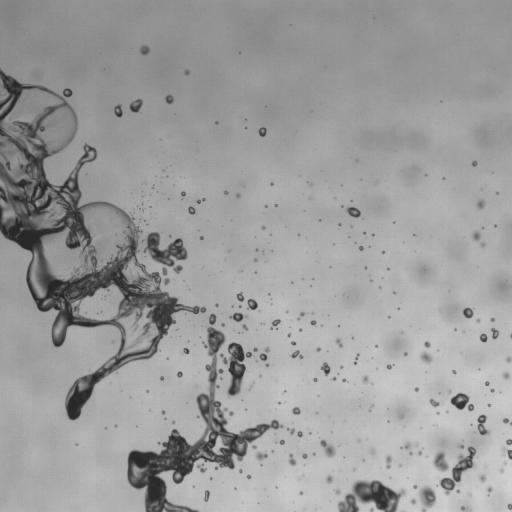droplet: (450, 392, 474, 411), (419, 485, 436, 511), (432, 451, 448, 472), (320, 440, 335, 457), (129, 99, 142, 112), (346, 206, 360, 217), (230, 312, 245, 321), (420, 352, 432, 363), (462, 307, 473, 318), (321, 362, 330, 375), (247, 298, 257, 309), (114, 104, 122, 117), (401, 441, 411, 450), (291, 350, 302, 358), (256, 452, 267, 460), (288, 454, 296, 465), (140, 45, 149, 54), (491, 328, 498, 339), (472, 231, 480, 240), (236, 292, 244, 301), (271, 319, 280, 327), (477, 199, 484, 209), (165, 95, 173, 103), (259, 127, 266, 136), (480, 333, 487, 342), (188, 206, 195, 214), (292, 407, 300, 414), (325, 475, 332, 483), (479, 474, 486, 482), (502, 372, 509, 379), (362, 376, 368, 383), (242, 324, 248, 330), (424, 341, 430, 347), (183, 348, 189, 354), (288, 428, 294, 434), (310, 320, 316, 325), (506, 356, 511, 362), (177, 371, 182, 377), (297, 431, 302, 437), (458, 443, 464, 448), (487, 486, 492, 492), (334, 489, 340, 494), (410, 498, 415, 504), (472, 161, 477, 166), (387, 364, 392, 369), (228, 411, 233, 416), (370, 449, 375, 454), (302, 453, 307, 458), (181, 191, 185, 197), (184, 70, 189, 74), (480, 243, 485, 247), (279, 440, 284, 444), (251, 445, 256, 449), (236, 193, 240, 197), (359, 246, 363, 250), (490, 317, 494, 321), (291, 341, 295, 345), (253, 347, 257, 351), (316, 347, 320, 351), (342, 378, 346, 382), (485, 381, 489, 385), (414, 387, 418, 391), (490, 388, 494, 392), (331, 377, 336, 380), (418, 450, 421, 455), (161, 410, 165, 413), (413, 485, 417, 488), (224, 191, 227, 194), (476, 319, 479, 322), (287, 333, 290, 336), (160, 377, 163, 380), (314, 378, 317, 381), (239, 469, 242, 472), (500, 469, 503, 472), (247, 475, 250, 478), (271, 182, 273, 185), (262, 226, 264, 229), (382, 250, 384, 253), (215, 304, 218, 306), (222, 323, 224, 326), (299, 328, 301, 331), (266, 363, 268, 366), (453, 370, 455, 373), (146, 390, 149, 392), (399, 416, 402, 418), (409, 452, 412, 454), (300, 491, 302, 494), (254, 258, 256, 260), (375, 344, 377, 346), (405, 353, 407, 355), (340, 366, 342, 368), (283, 391, 285, 393), (446, 410, 448, 412), (172, 422, 174, 424), (414, 443, 416, 445)
ligament: (0, 68, 206, 420), (127, 314, 282, 511), (337, 480, 405, 511), (438, 446, 475, 495), (477, 414, 490, 435), (502, 439, 511, 459), (259, 347, 269, 361), (429, 398, 441, 407), (385, 454, 391, 468), (503, 418, 511, 425), (204, 490, 209, 501), (461, 506, 472, 511), (336, 338, 342, 347), (354, 354, 359, 364), (298, 312, 304, 319), (197, 198, 205, 203), (507, 503, 511, 511), (249, 383, 253, 389), (510, 334, 511, 337)
